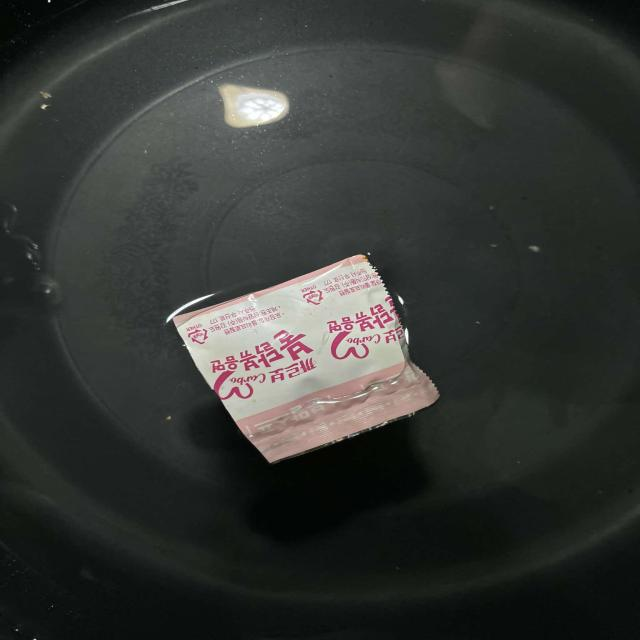Plastic Wrapper: (158, 245, 464, 474)
